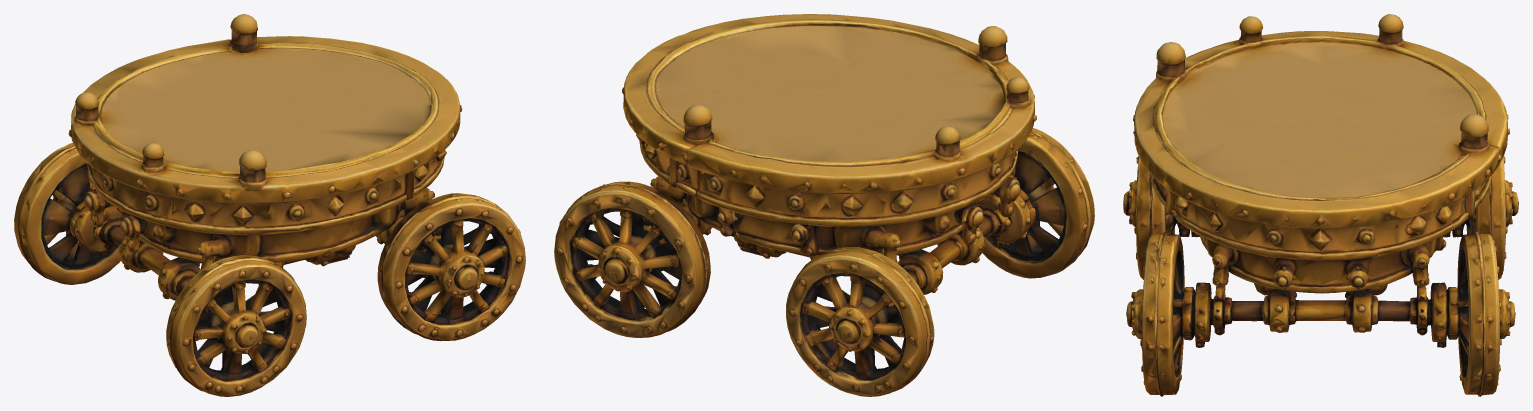
The model's file is cast_motecart.glb.
3 renders of one model, left to right at view 1: azimuth 30°, elevation 25°; view 2: azimuth 150°, elevation 25°; view 3: azimuth 270°, elevation 25°, orthographic. The views are drawn at different scales.
Visible parts, largest first — view 1: tripo_node_1eec02e3-cf81-4bb7-b256-32cc60cc51b9; view 2: tripo_node_1eec02e3-cf81-4bb7-b256-32cc60cc51b9; view 3: tripo_node_1eec02e3-cf81-4bb7-b256-32cc60cc51b9.
Part boxes in pixels (x1=…): tripo_node_1eec02e3-cf81-4bb7-b256-32cc60cc51b9: x1=14, y1=14, x2=525, y2=396; tripo_node_1eec02e3-cf81-4bb7-b256-32cc60cc51b9: x1=554, y1=14, x2=1094, y2=396; tripo_node_1eec02e3-cf81-4bb7-b256-32cc60cc51b9: x1=1123, y1=14, x2=1518, y2=396.
Bounding box in the file's own units: 0.9817 × 0.6173 × 0.9048.
1 material, 1 textured.
